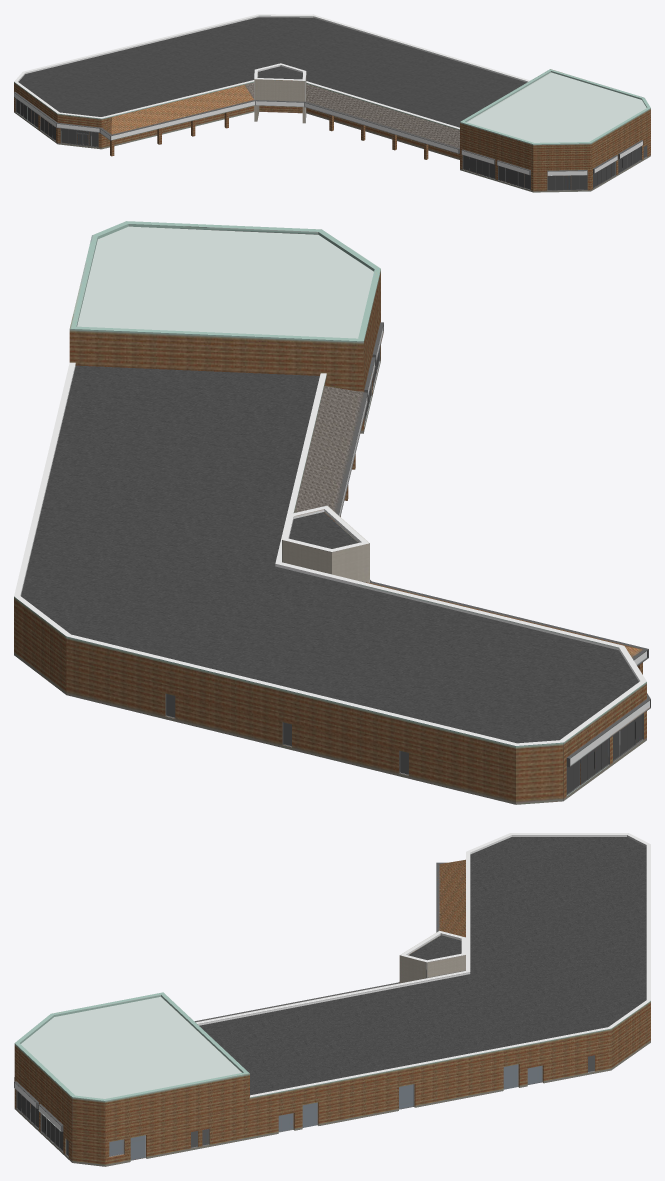
The model's file is Rouge Valley Dental Care (version 2.0).fbx.
3 renders of one model, top to bottom at view 1: azimuth 30°, elevation 25°; view 2: azimuth 150°, elevation 25°; view 3: azimuth 270°, elevation 25°, orthographic. The views are drawn at different scales.
Visible parts, largest first — view 1: Rouge_Valley_Dental_Care_LOD0; view 2: Rouge_Valley_Dental_Care_LOD0; view 3: Rouge_Valley_Dental_Care_LOD0.
Boxes of the visible parts, x1,y1,x2,y2 form: Rouge_Valley_Dental_Care_LOD0: [14, 14, 650, 192]; Rouge_Valley_Dental_Care_LOD0: [14, 221, 650, 804]; Rouge_Valley_Dental_Care_LOD0: [14, 833, 650, 1166].
Size of what is drawn, in the model's own units: 7868 by 825 by 7230.
1 material, 1 textured.
